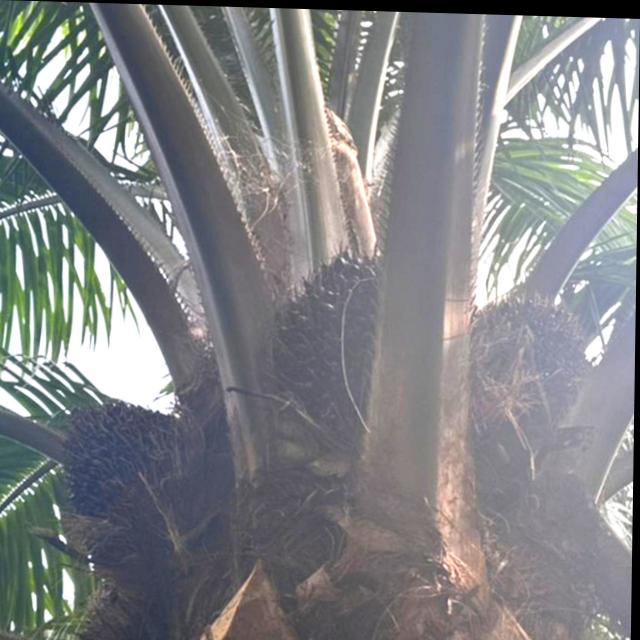ripe: (257, 223, 405, 455)
